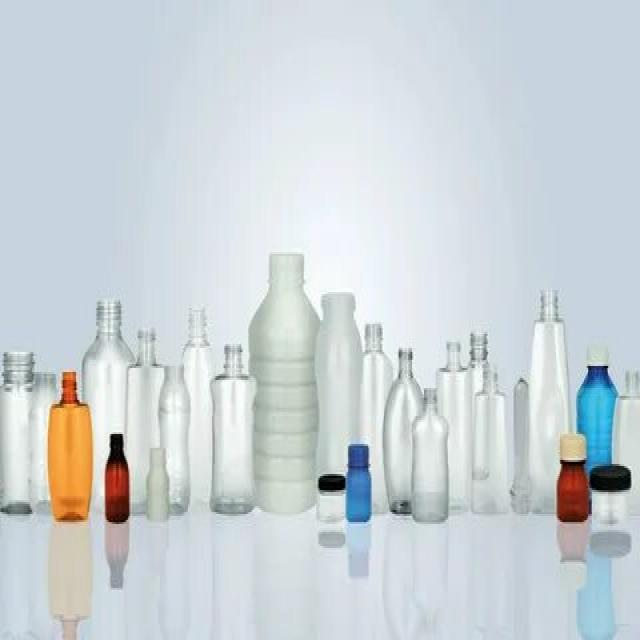brown: (105, 435, 129, 523), (557, 460, 590, 520)
